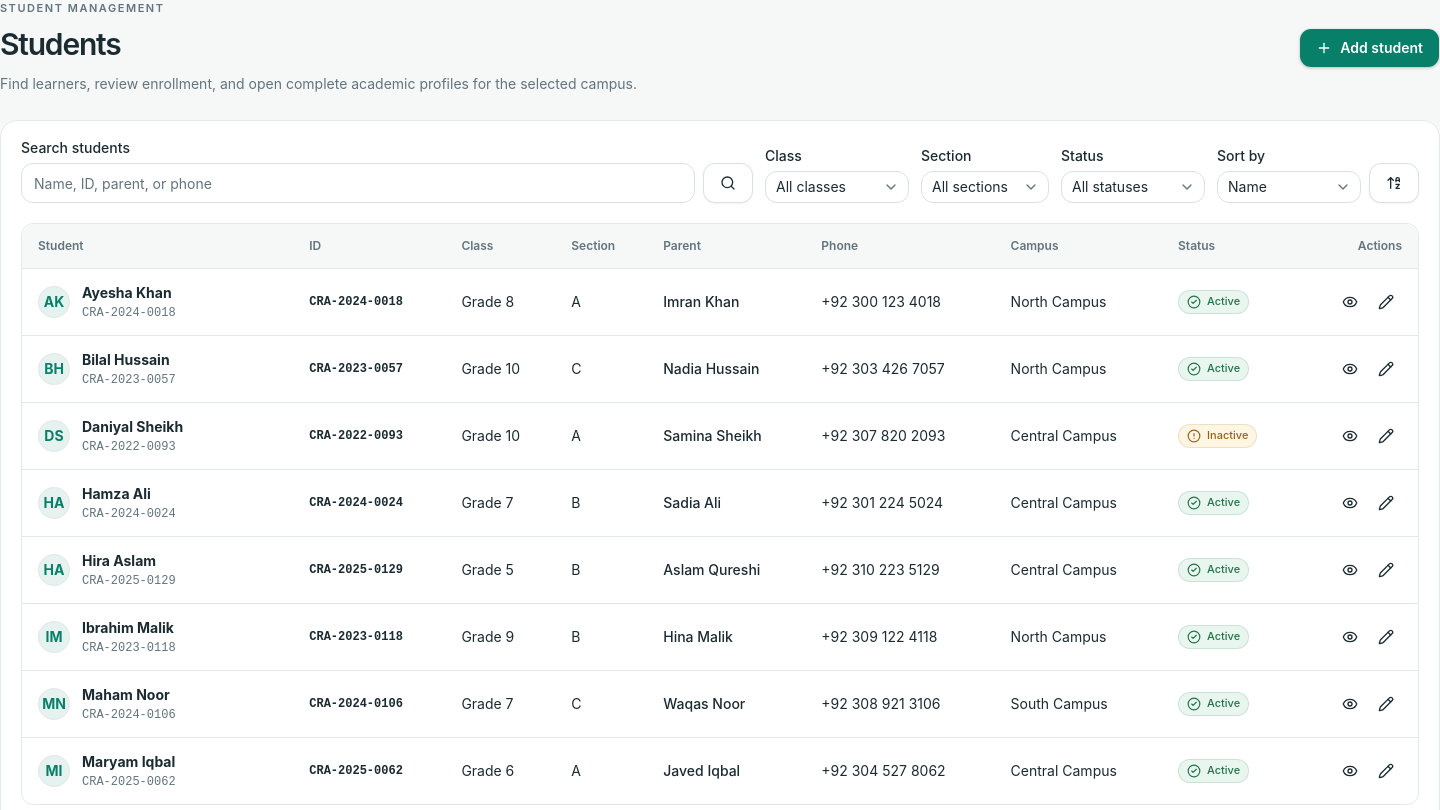
Scenario: StudentsList › combines search and filters and can clear an empty result
Check: the text "Ayesha Khan" is shown, box [82,283,176,303]
In the field labelled "Search students": (358, 184) [21,164,695,204], type "Hamza"
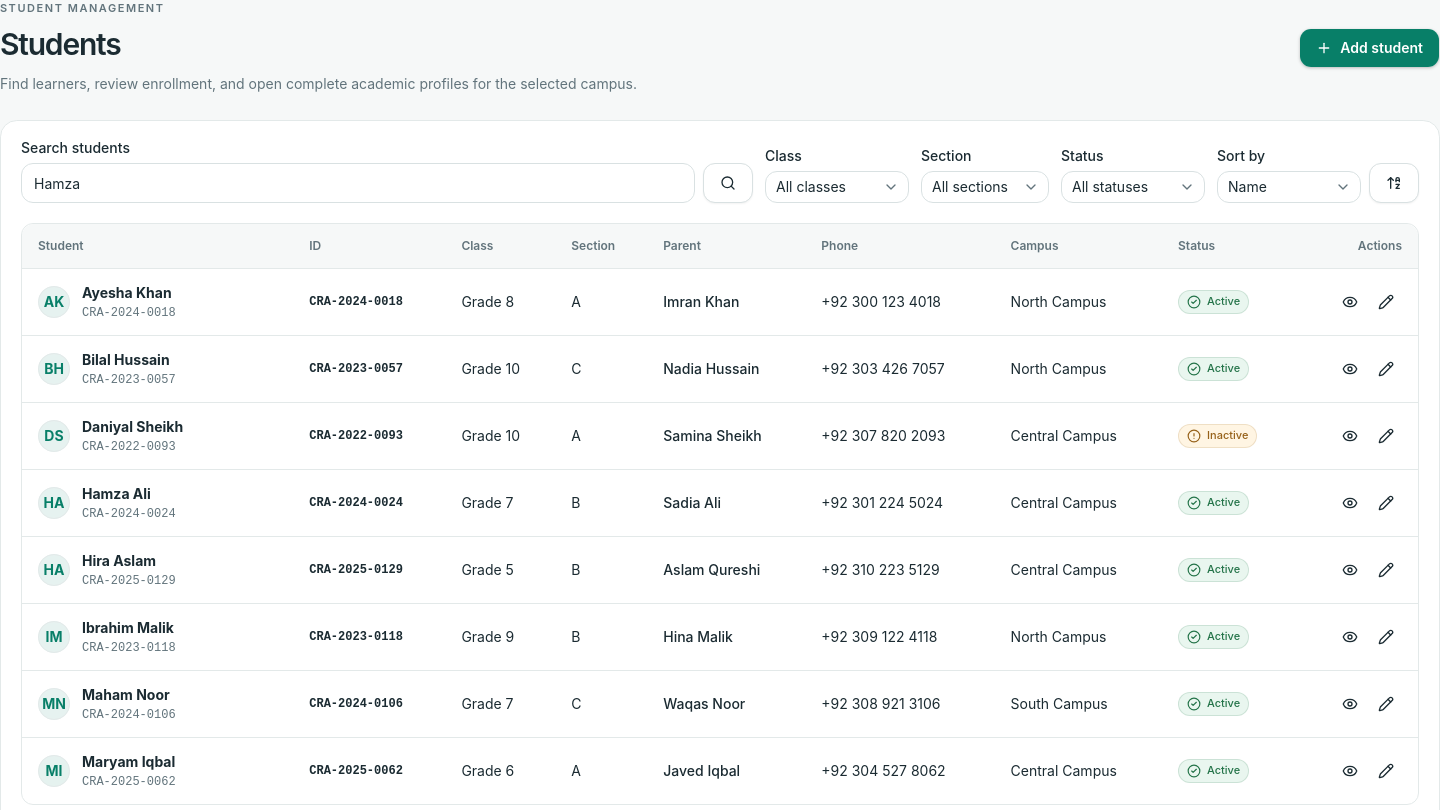
Click the button named "Search students": (728, 184) [703,164,753,204]
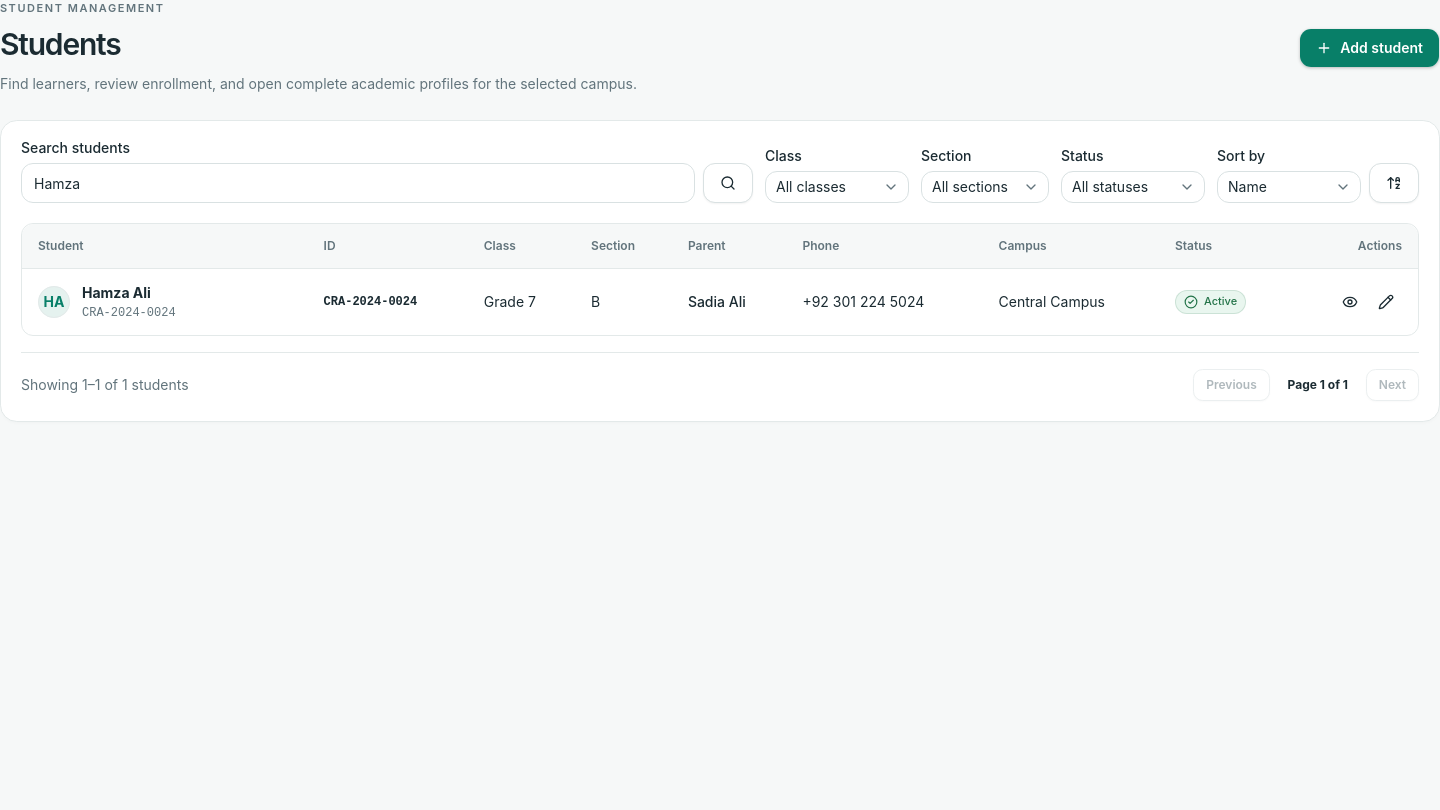
Check: the text "Hamza Ali" is shown, box [82,284,151,301]
Select "Grade 10" in the dropdown labelled "Class": (837, 188) [765,172,909,204]
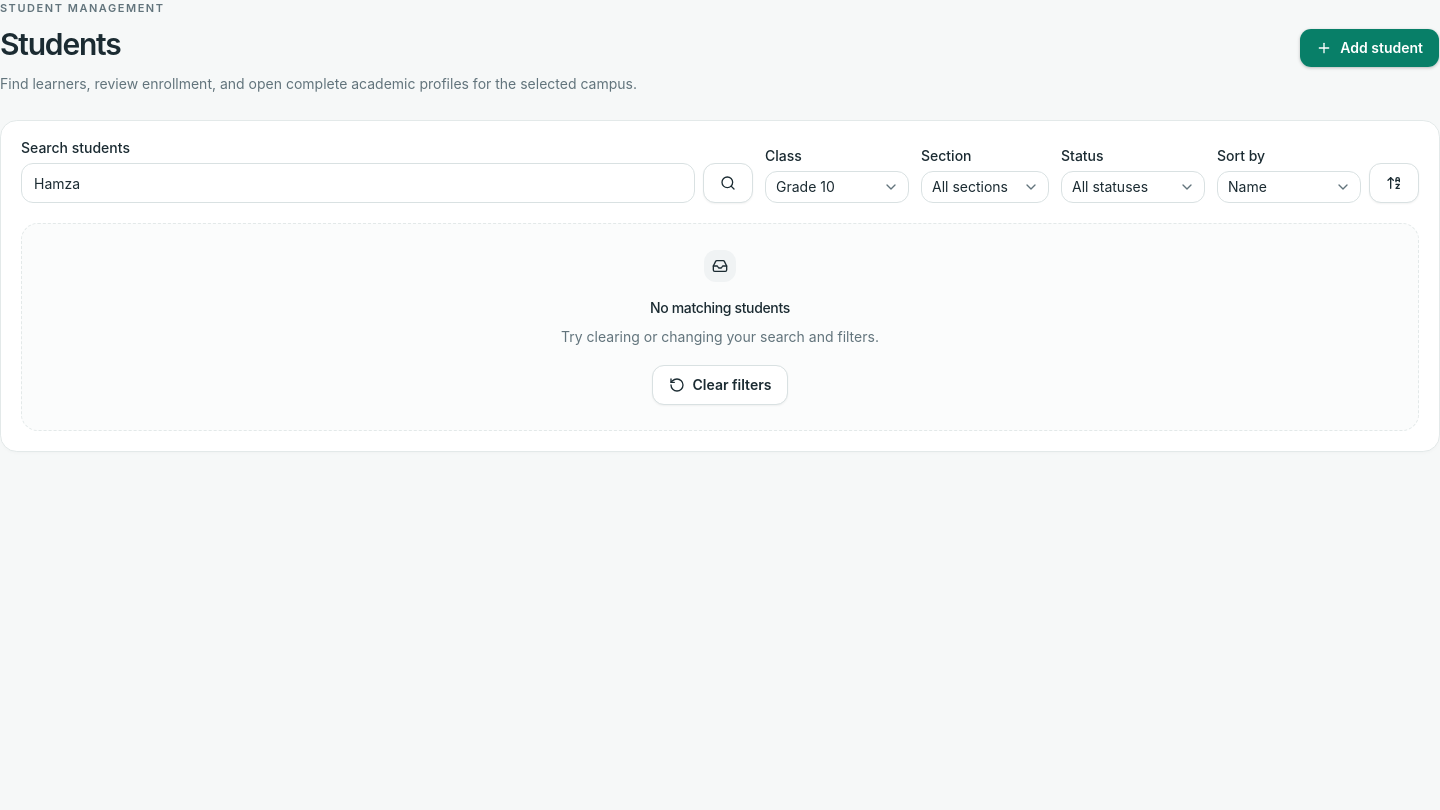
Check: the text "No matching students" is shown, box [650,298,790,318]
Click the button "Clear filters": (720, 385) [652,365,788,405]
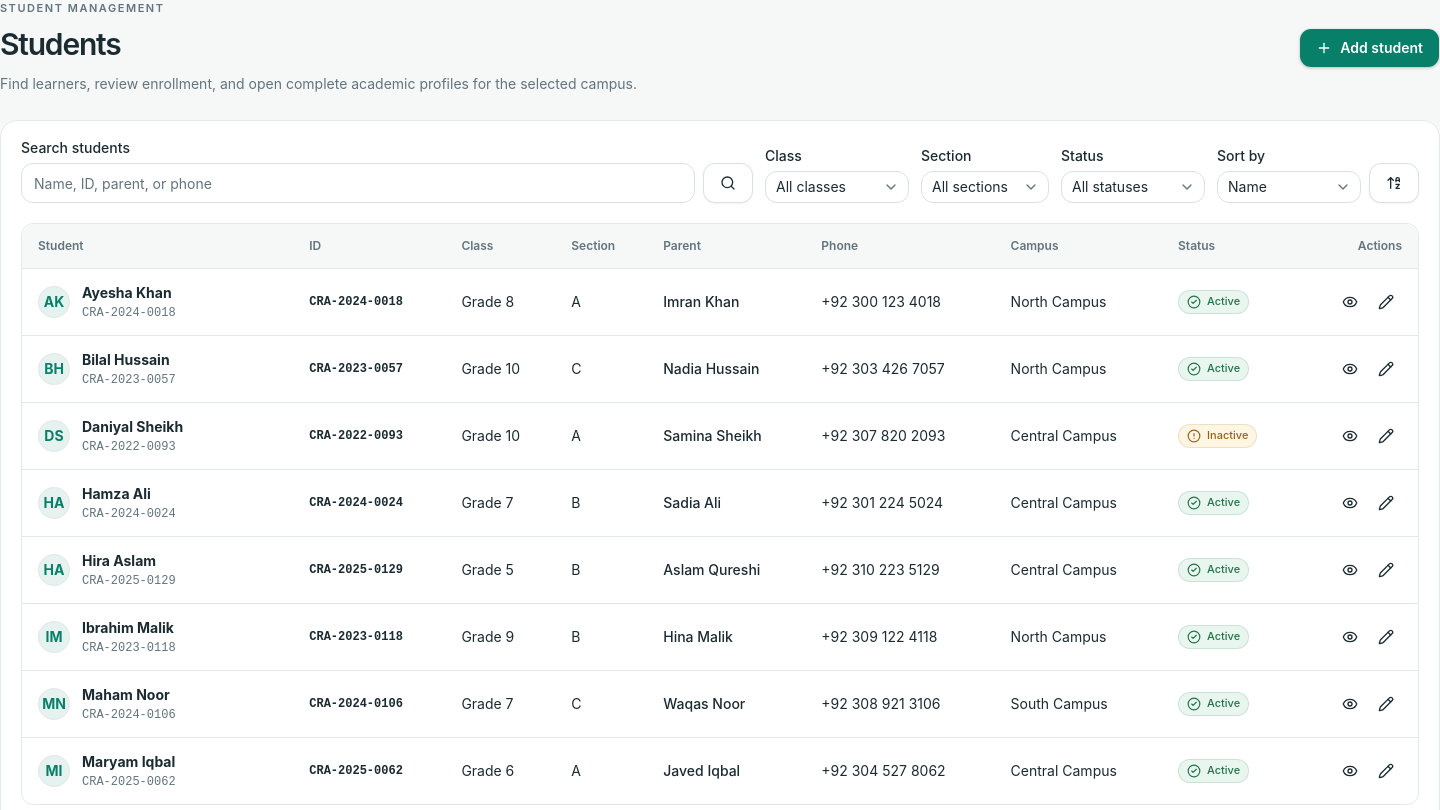
Check: the text "Ayesha Khan" is shown, box [82,283,176,303]
